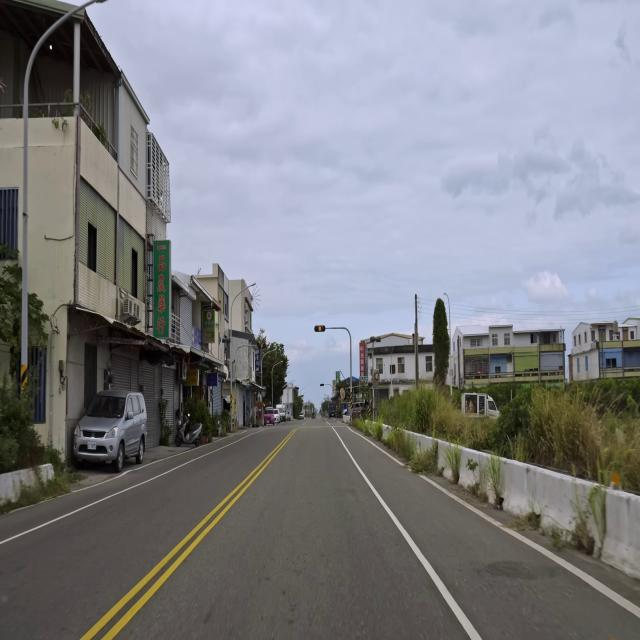yellow light: (314, 324, 325, 332), (257, 342, 267, 348)
